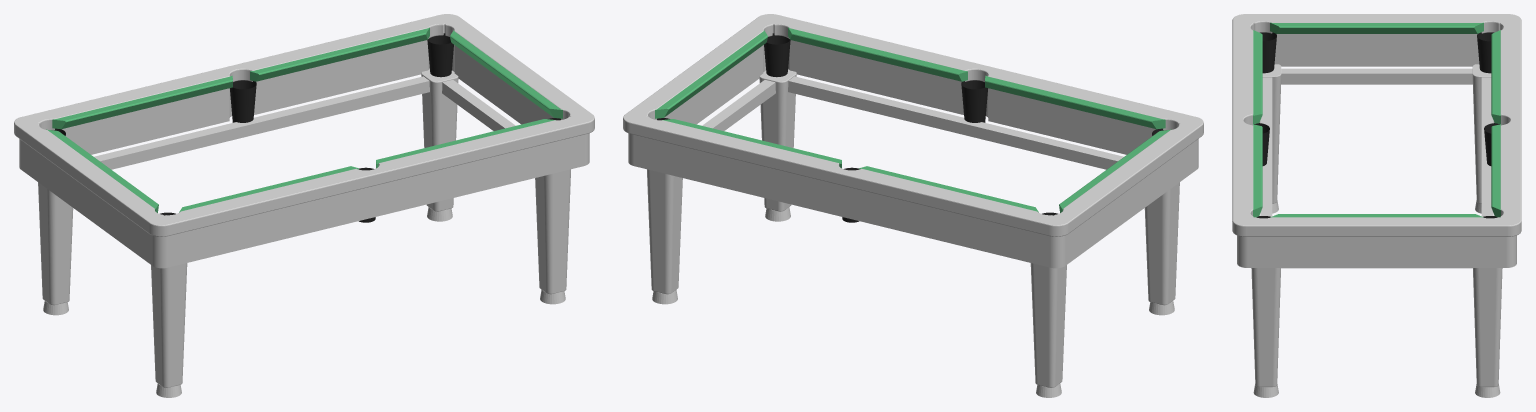
The model's file is table.glb.
The picture shows the model from 3 angles, left to right: view 1: azimuth 30°, elevation 25°; view 2: azimuth 150°, elevation 25°; view 3: azimuth 270°, elevation 25°; orthographic projection. The views are drawn at different scales.
Visible parts, largest first — view 1: frame, cushion, pocket; view 2: frame, cushion, pocket; view 3: frame, cushion, pocket.
Part boxes in pixels (x1=…): frame: x1=14, y1=14, x2=594, y2=397; cushion: x1=46, y1=27, x2=562, y2=212; pocket: x1=54, y1=33, x2=560, y2=222; frame: x1=623, y1=14, x2=1203, y2=397; cushion: x1=655, y1=27, x2=1171, y2=212; pocket: x1=657, y1=33, x2=1163, y2=222; frame: x1=1232, y1=14, x2=1521, y2=397; cushion: x1=1253, y1=22, x2=1500, y2=217; pocket: x1=1254, y1=32, x2=1499, y2=218.
Size of the model in its own units: 2.06 by 0.8199 by 1.19.
